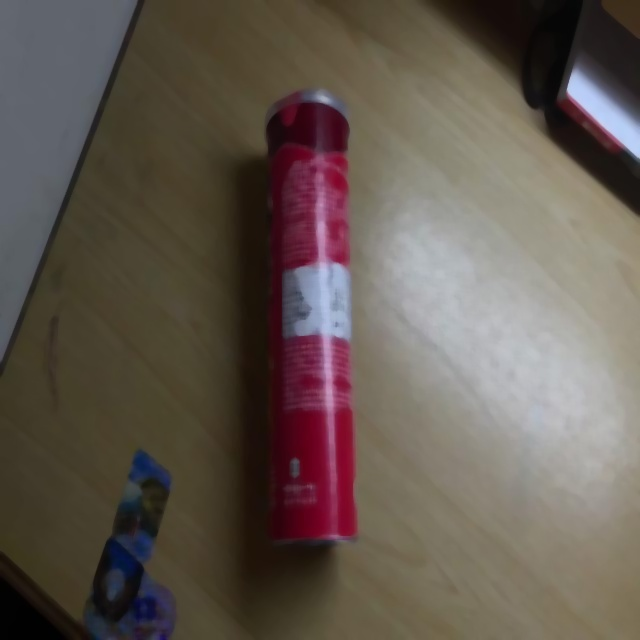Pringles: (264, 89, 360, 551)
